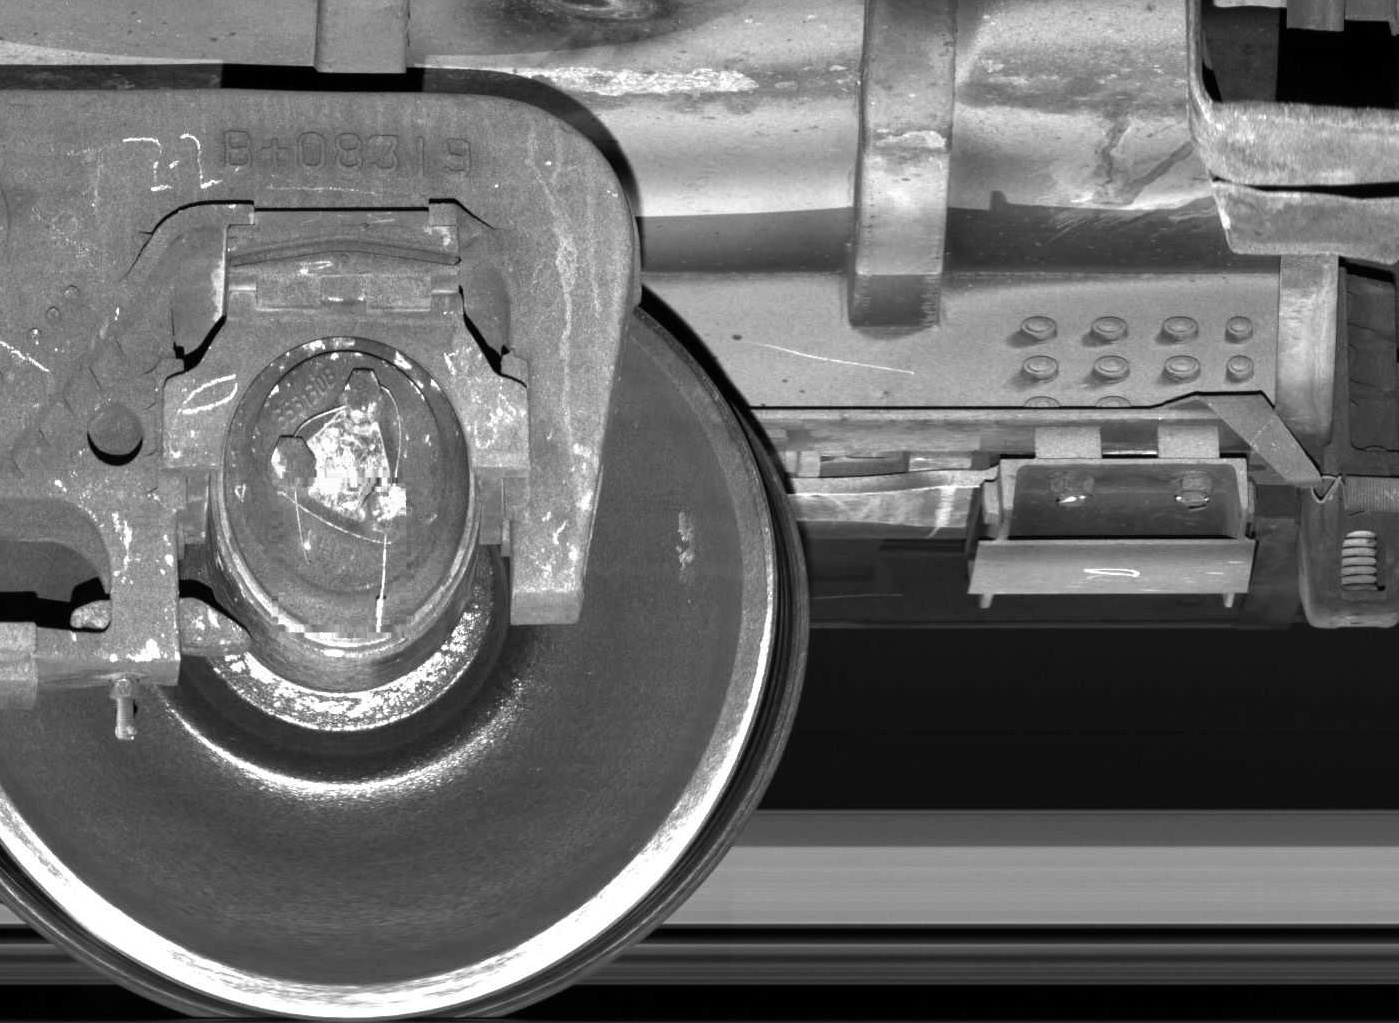ding_area: (841, 416, 1053, 493)
